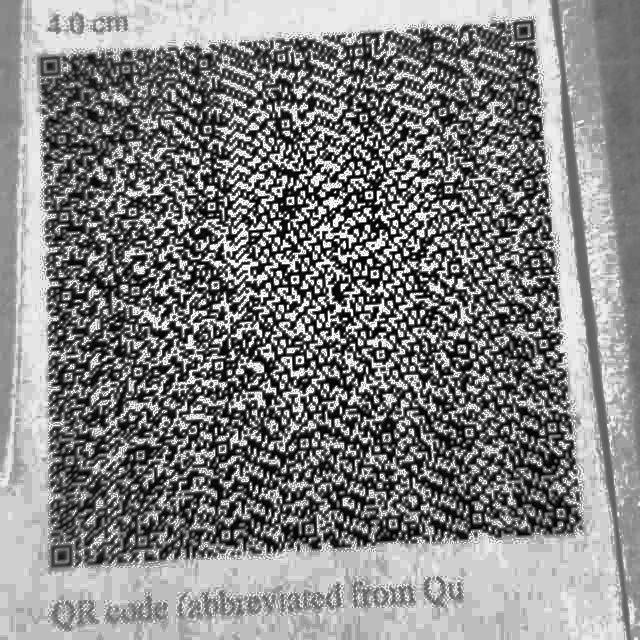qr_code: (21, 9, 599, 580)
